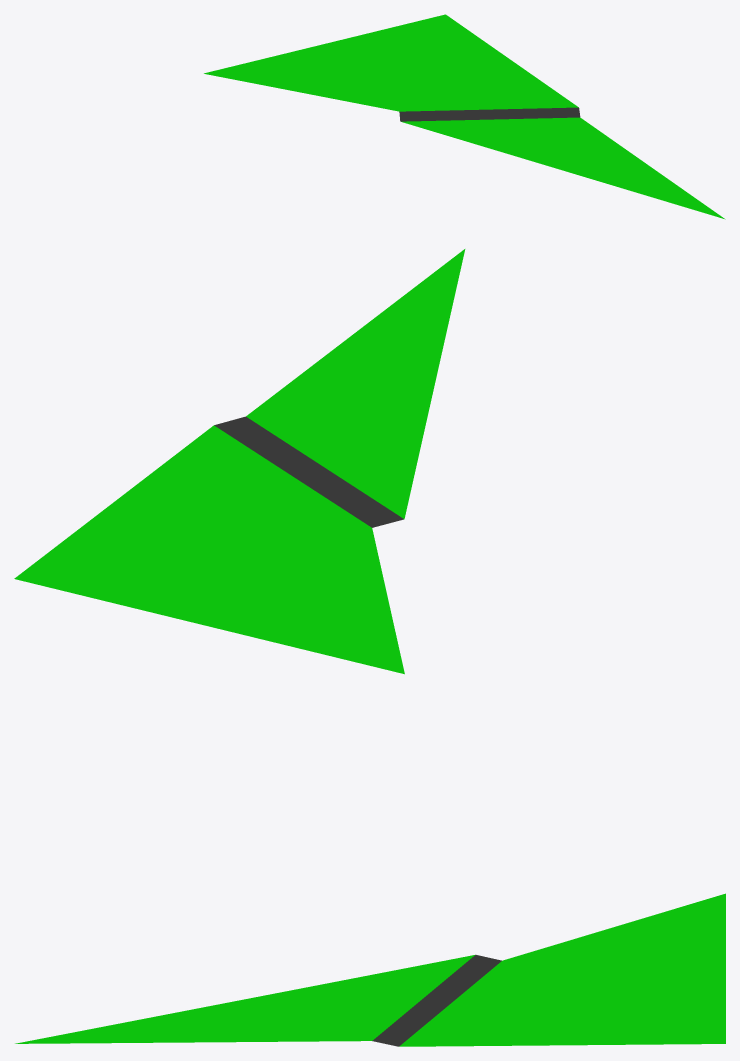
3 renders of one model, top to bottom at view 1: azimuth 30°, elevation 25°; view 2: azimuth 150°, elevation 25°; view 3: azimuth 270°, elevation 25°, orthographic. The views are drawn at different scales.
Bounding box in the file's own units: 54.57 × 0 × 60.
